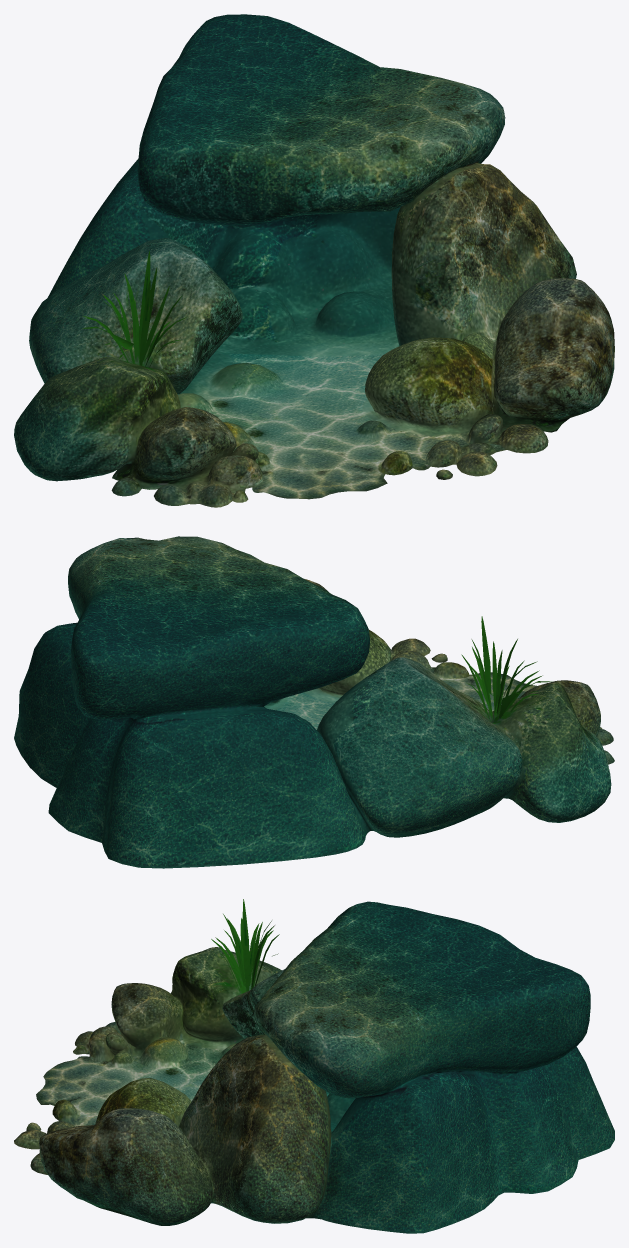
Rendered from rocks2.glb.
3 renders of one model, top to bottom at view 1: azimuth 30°, elevation 25°; view 2: azimuth 150°, elevation 25°; view 3: azimuth 270°, elevation 25°, orthographic. The views are drawn at different scales.
Visible parts, largest first — view 1: ca7e99d1-9096-4627-999c-c49a7e8ccfa3; view 2: ca7e99d1-9096-4627-999c-c49a7e8ccfa3; view 3: ca7e99d1-9096-4627-999c-c49a7e8ccfa3.
Part boxes in pixels (x1,y1,x2,y2): ca7e99d1-9096-4627-999c-c49a7e8ccfa3: [14, 14, 614, 507]; ca7e99d1-9096-4627-999c-c49a7e8ccfa3: [14, 536, 614, 868]; ca7e99d1-9096-4627-999c-c49a7e8ccfa3: [14, 899, 614, 1233].
Size of the model in its own units: 0.9526 by 0.3843 by 0.9995.
Materials: 1 (1 with a texture image).
